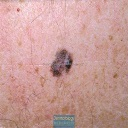Melanoma: (47, 48, 75, 78)
